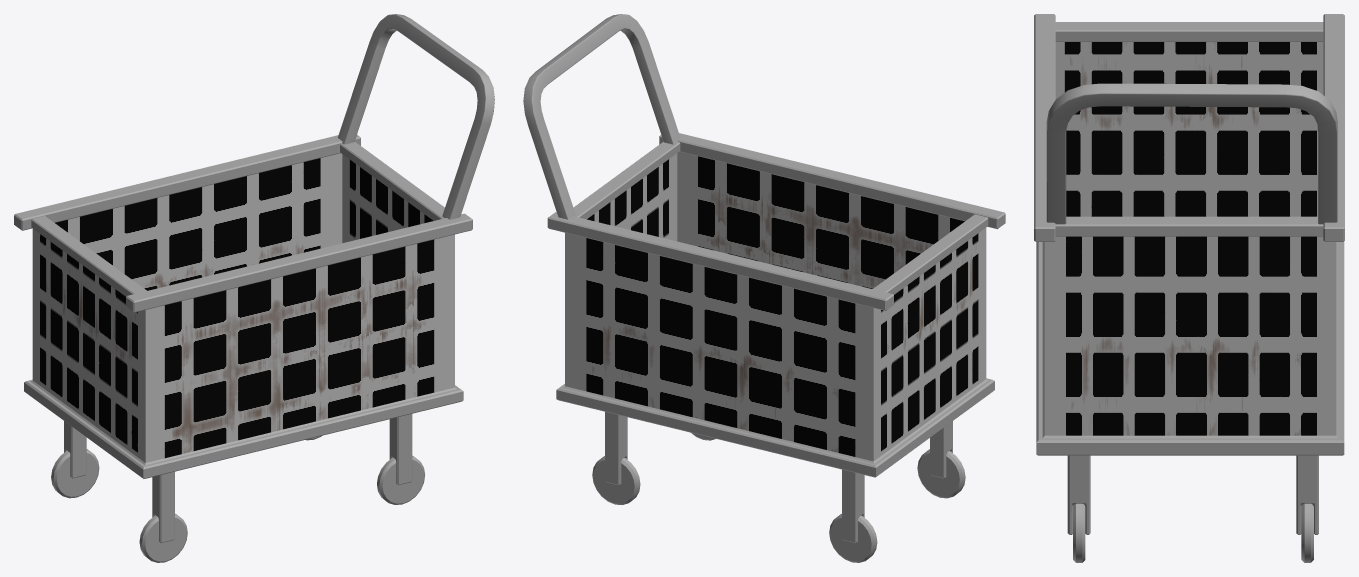
File: Trolly_final.fbx
The picture shows the model from 3 angles, left to right: view 1: azimuth 30°, elevation 25°; view 2: azimuth 150°, elevation 25°; view 3: azimuth 270°, elevation 25°; orthographic projection. The views are drawn at different scales.
Visible parts, largest first — view 1: polySurface3, polySurface5, handel, pCube14, pCube17, pCube15, pCube12, pCylinder2, pCylinder3, pCube19, pCylinder1, pCube16 (+1 smaller); view 2: polySurface3, polySurface5, handel, pCube17, pCube14, pCube15, pCube12, pCube20, pCylinder1, pCube18, pCylinder4, pCylinder2 (+1 smaller); view 3: polySurface3, handel, polySurface5, pCube12, pCube15, pCube14, pCube17, pCube19, pCube20, pCylinder3, pCylinder4.
Boxes of the visible parts, <box> form: polySurface3: <box>32,153,454,462</box>; polySurface5: <box>24,379,463,478</box>; handel: <box>337,14,494,219</box>; pCube14: <box>126,213,472,312</box>; pCube17: <box>14,135,360,230</box>; pCube15: <box>31,216,146,296</box>; pCube12: <box>340,142,444,220</box>; pCylinder2: <box>51,449,99,498</box>; pCylinder3: <box>377,455,424,504</box>; pCube19: <box>389,414,412,485</box>; pCylinder1: <box>139,513,187,562</box>; pCube16: <box>152,471,174,542</box>; polySurface3: <box>565,151,986,461</box>; polySurface5: <box>556,378,994,477</box>; handel: <box>523,14,680,219</box>; pCube17: <box>547,212,893,310</box>; pCube14: <box>659,133,1005,229</box>; pCube15: <box>873,214,988,294</box>; pCube12: <box>573,142,680,219</box>; pCube20: <box>605,412,627,485</box>; pCylinder1: <box>917,449,965,498</box>; pCube18: <box>842,469,864,543</box>; pCylinder4: <box>592,456,640,504</box>; pCylinder2: <box>829,514,877,562</box>; polySurface3: <box>1044,42,1336,435</box>; handel: <box>1046,83,1337,224</box>; polySurface5: <box>1036,241,1344,455</box>; pCube12: <box>1055,216,1323,236</box>; pCube15: <box>1055,22,1323,41</box>; pCube14: <box>1034,14,1055,241</box>; pCube17: <box>1323,14,1344,241</box>; pCube19: <box>1067,455,1090,534</box>; pCube20: <box>1296,455,1318,534</box>; pCylinder3: <box>1073,503,1085,562</box>; pCylinder4: <box>1301,503,1313,562</box>.
Size of the model in its own units: 65.86 by 68.55 by 36.55.
